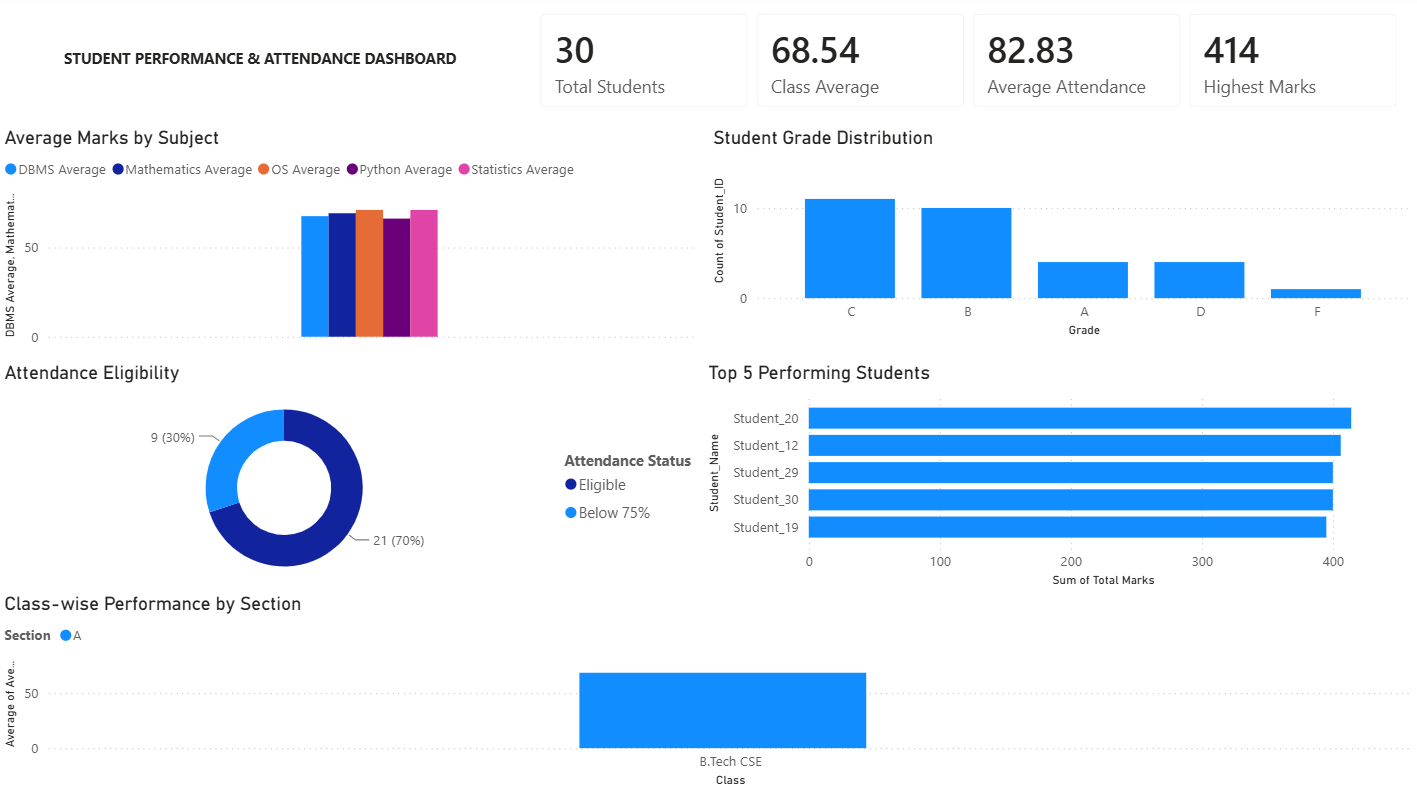

Layout of this report page (visuals, bound fields, positions):
{"tool":"powerbi","page":{"name":"Page 1","canvas":[1280,720],"ordinal":0},"visuals":[{"type":"cardVisual","fields":{"Data":["student_performance_data.Total Students","student_performance_data.Class Average","student_performance_data.Average Attendance","student_performance_data.Highest Marks"]},"box":[471.1,0,807,118.3],"z":0},{"type":"clusteredColumnChart","title":"Average Marks by Subject","fields":{"Y":["student_performance_data.DBMS Average","student_performance_data.Mathematics Average","student_performance_data.OS Average","student_performance_data.Python Average","student_performance_data.Statistics Average"]},"box":[0,118.3,634.6,204],"z":1000},{"type":"clusteredColumnChart","title":"Student Grade Distribution","fields":{"Category":["student_performance_data.Grade"],"Y":["CountNonNull(student_performance_data.Student_ID)"]},"box":[639.1,118.3,639.1,195],"z":1001},{"type":"donutChart","title":"Attendance Eligibility","fields":{"Category":["student_performance_data.Attendance Status"],"Y":["CountNonNull(student_performance_data.Student_ID)"]},"box":[0,330.2,643.6,209.6],"z":1002},{"type":"clusteredBarChart","title":"Top 5 Performing Students","fields":{"Category":["student_performance_data.Student_Name"],"Y":["Sum(student_performance_data.Total Marks)"]},"box":[634.6,330.2,642.5,208.5],"z":1003},{"type":"clusteredColumnChart","title":"Class-wise Performance by Section","fields":{"Category":["student_performance_data.Class"],"Y":["Avg(student_performance_data.Average Marks)"],"Series":["student_performance_data.Section"]},"box":[0,538.8,1279.3,180.3],"z":1004},{"type":"textbox","box":[0,42.8,471.1,46.2],"z":1005}]}

Visuals, with their boxes in screenshot pixels (x1, y1, x2, y2), scaled from the page's 1280x720 canvas onto the 1417x793 screenshot:
cardVisual - student_performance_data.Total Students x student_performance_data.Class Average: 522 0 1415 130
"Average Marks by Subject" clusteredColumnChart: 0 130 703 355
"Student Grade Distribution" clusteredColumnChart: 708 130 1415 345
"Attendance Eligibility" donutChart: 0 364 712 595
"Top 5 Performing Students" clusteredBarChart: 703 364 1414 593
"Class-wise Performance by Section" clusteredColumnChart: 0 593 1416 792
textbox: 0 47 522 98
